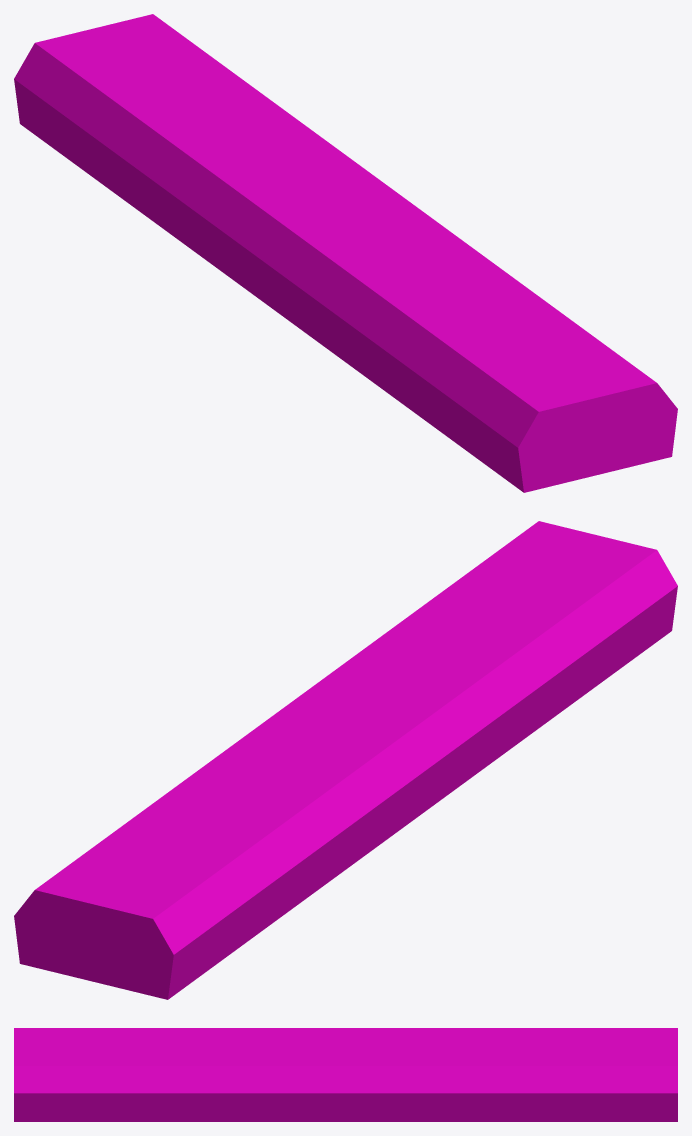
The model's file is Tubos_Neon.fbx.
The picture shows the model from 3 angles, top to bottom: view 1: azimuth 30°, elevation 25°; view 2: azimuth 150°, elevation 25°; view 3: azimuth 270°, elevation 25°; orthographic projection. The views are drawn at different scales.
Parts seen in each view (by area): view 1: Cube; view 2: Cube; view 3: Cube.
Part boxes in pixels (bbox=[...]): Cube: bbox=[14, 14, 677, 492]; Cube: bbox=[14, 521, 677, 999]; Cube: bbox=[14, 1028, 677, 1121].
Bounding box in the file's own units: 28.33 × 13.12 × 155.
